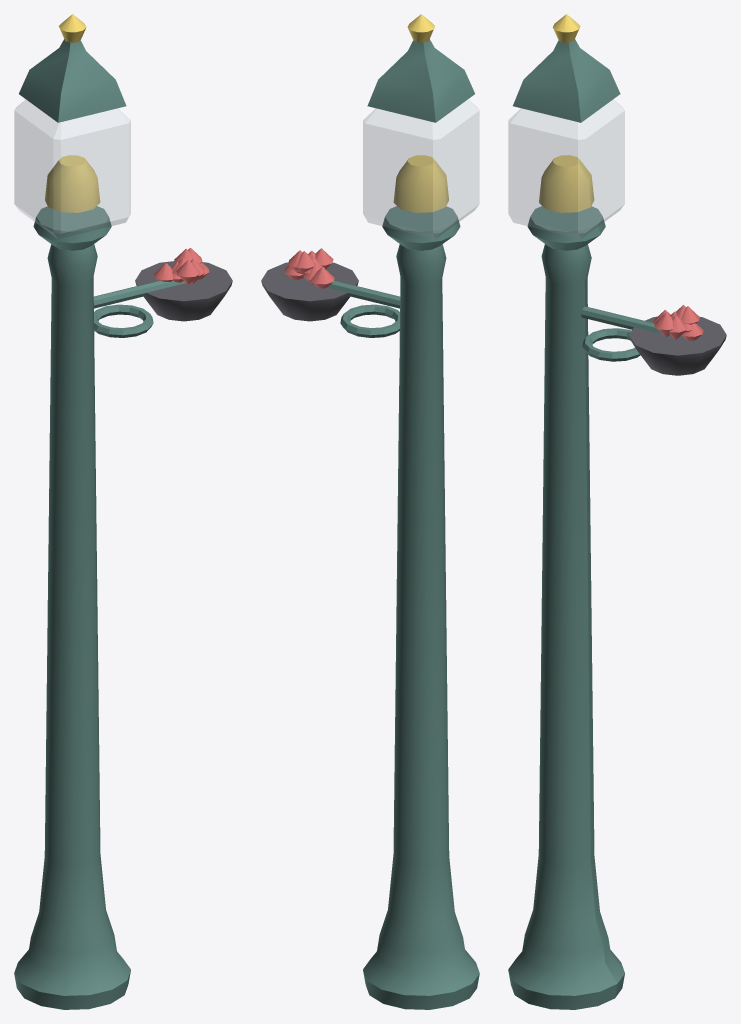
Rendered from amusement-arcade-and-seaside-pier-pier-lamp-post-73185eef__35392.glb.
3 renders of one model, left to right at view 1: azimuth 30°, elevation 25°; view 2: azimuth 150°, elevation 25°; view 3: azimuth 330°, elevation 25°, orthographic.
Parts seen in each view (by area): view 1: pier-lamp-post; view 2: pier-lamp-post; view 3: pier-lamp-post.
Part boxes in pixels (x1,y1,x2,y2): pier-lamp-post: [14, 14, 232, 1009]; pier-lamp-post: [261, 14, 479, 1009]; pier-lamp-post: [508, 14, 726, 1009].
Bounding box in the file's own units: 0.8449 × 3.84 × 0.4095.
